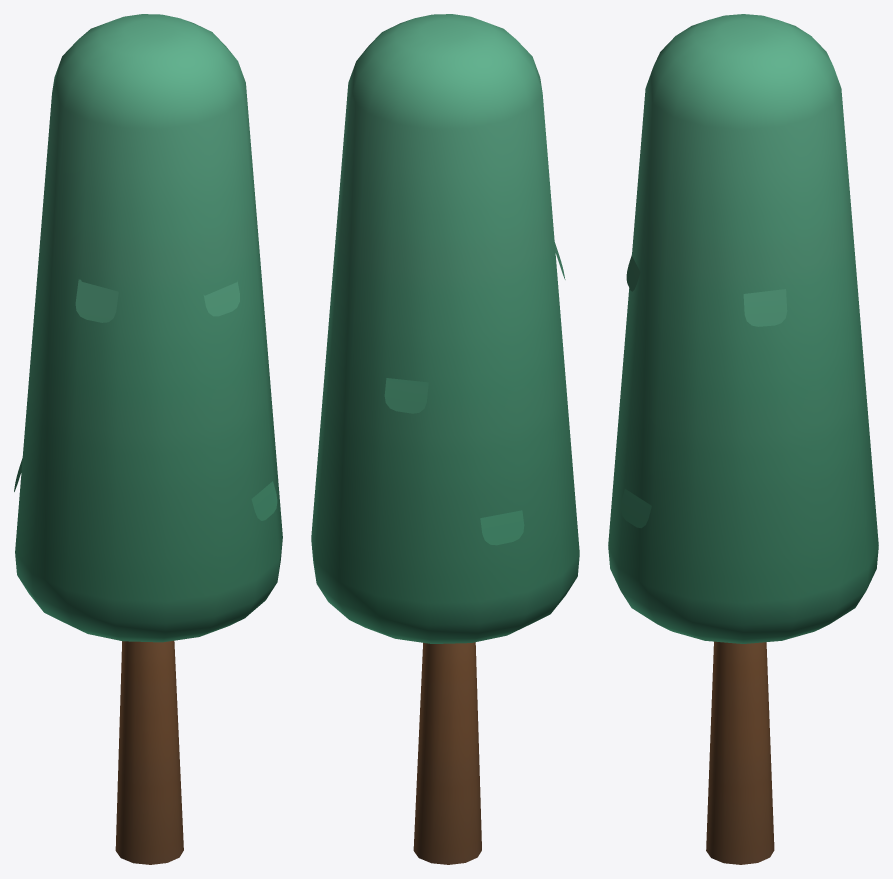
The model's file is tree-02.glb.
3 views of the same model, side by side, from view 1: azimuth 30°, elevation 25°; view 2: azimuth 150°, elevation 25°; view 3: azimuth 270°, elevation 25° (orthographic).
Visible parts, largest first — view 1: tree 02; view 2: tree 02; view 3: tree 02.
Part boxes in pixels (box(x1,y1,x2,y2)): tree 02: box(14, 14, 282, 864); tree 02: box(311, 14, 579, 864); tree 02: box(608, 14, 878, 864).
Bounding box in the file's own units: 1.27 × 4.26 × 1.27.
1 material, 1 textured.
